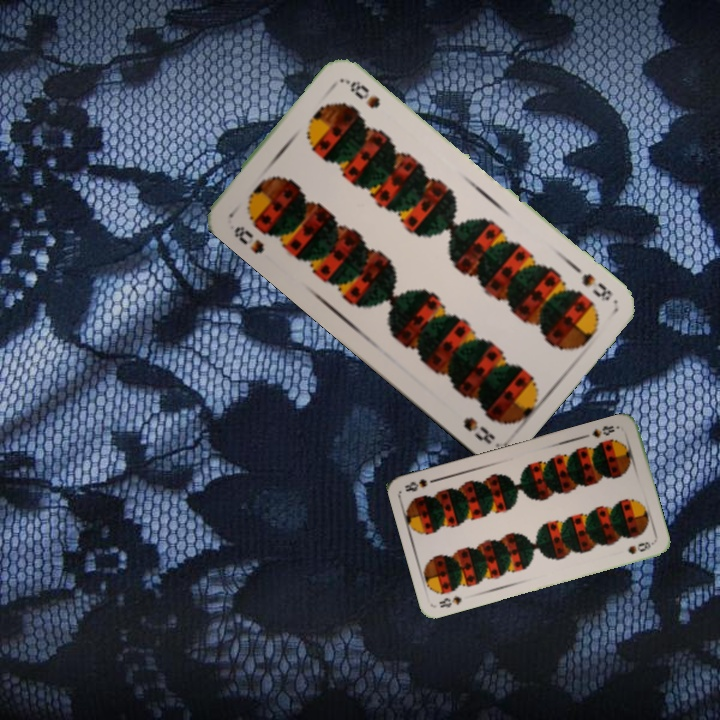S8: (229, 221, 267, 257), (577, 269, 616, 304), (588, 421, 617, 440), (435, 592, 464, 610)
